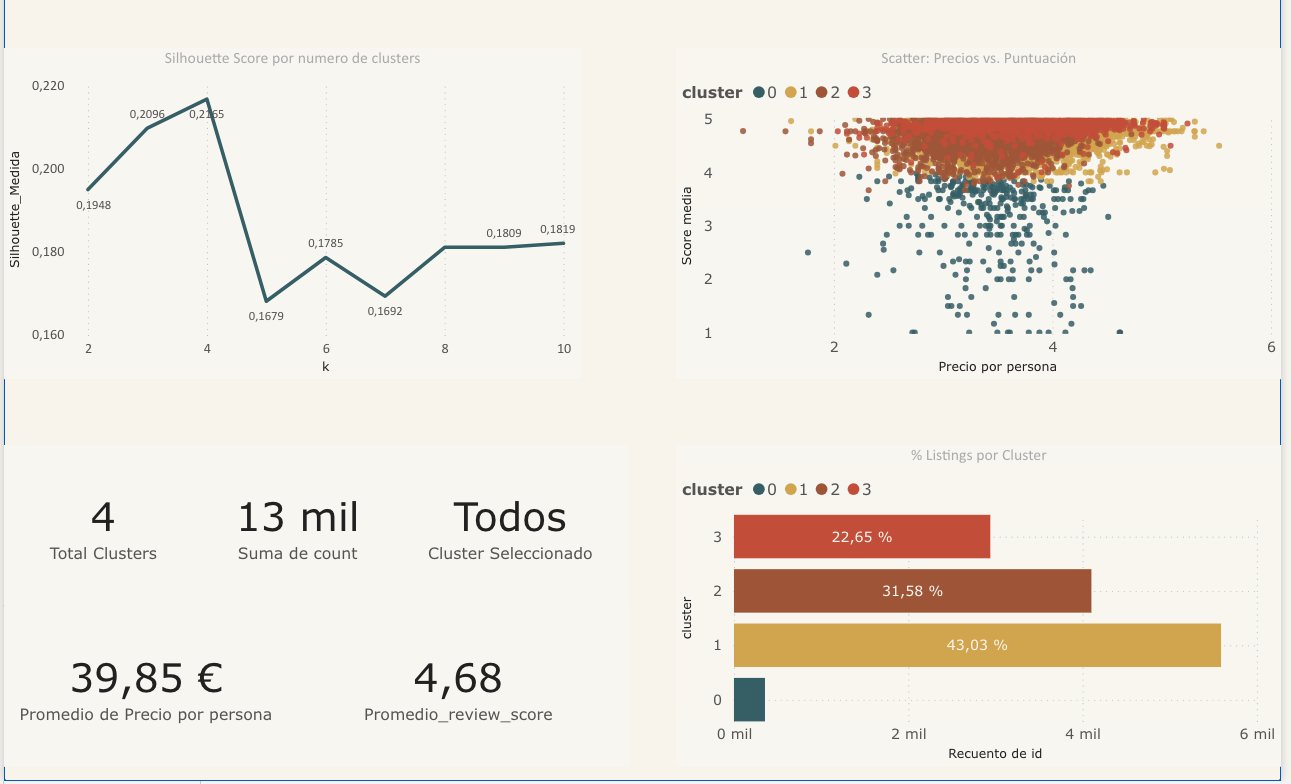

Layout of this report page (visuals, bound fields, positions):
{"tool":"powerbi","page":{"name":"Clustering & Métricas","canvas":[1080,700],"ordinal":0},"visuals":[{"type":"barChart","title":"% Listings por Cluster","fields":{"Category":["listings_clusters_geo.cluster"],"Y":["CountNonNull(listings_clusters_geo.id)"],"Series":["listings_clusters_geo.cluster"]},"box":[568,416,512,272],"z":0},{"type":"scatterChart","title":"Scatter: Precios vs. Puntuación","fields":{"X":["listings_clusters_scatter.log_price_per_person"],"Y":["listings_clusters_scatter.avg_review_score"],"Series":["listings_clusters_scatter.cluster"]},"box":[568,80,512,280],"z":2000},{"type":"lineChart","title":"Silhouette Score por numero de clusters","fields":{"Category":["silhouette_scores.k"],"Y":["silhouette_scores.Silhouette_Medida"]},"box":[0,80,488,280],"z":3000},{"type":"actionButton","box":[0,0,100,40],"z":5000},{"type":"card","fields":{"Values":["Avg(listings_clusters_geo.Precio por persona (estimado))"]},"box":[0,552,240,136],"z":7000},{"type":"card","fields":{"Values":["Sum(cluster_summary.count)"]},"box":[168,416,160,136],"z":8000},{"type":"card","fields":{"Values":["listings_clusters_geo.Cluster Seleccionado"]},"box":[328,416,200,136],"z":9000},{"type":"card","fields":{"Values":["cluster_summary.Total Cluster"]},"box":[0,416,168,136],"z":10000},{"type":"card","fields":{"Values":["Avg(listings_clusters_geo.avg_review_score)"]},"box":[240,552,288,136],"z":11000}]}

Visuals, with their boxes on the page's 1080x700 design canvas (x1, y1, x2, y2). These are canvas units, not pixel positions in the 1291x784 screenshot, which may show the page scaled, cropped or inside an application window:
"% Listings por Cluster" barChart: (568, 416, 1080, 688)
"Scatter: Precios vs. Puntuación" scatterChart: (568, 80, 1080, 360)
"Silhouette Score por numero de clusters" lineChart: (0, 80, 488, 360)
actionButton: (0, 0, 100, 40)
card - Avg(listings_clusters_geo.Precio por persona (estimado)): (0, 552, 240, 688)
card - Sum(cluster_summary.count): (168, 416, 328, 552)
card - listings_clusters_geo.Cluster Seleccionado: (328, 416, 528, 552)
card - cluster_summary.Total Cluster: (0, 416, 168, 552)
card - Avg(listings_clusters_geo.avg_review_score): (240, 552, 528, 688)
